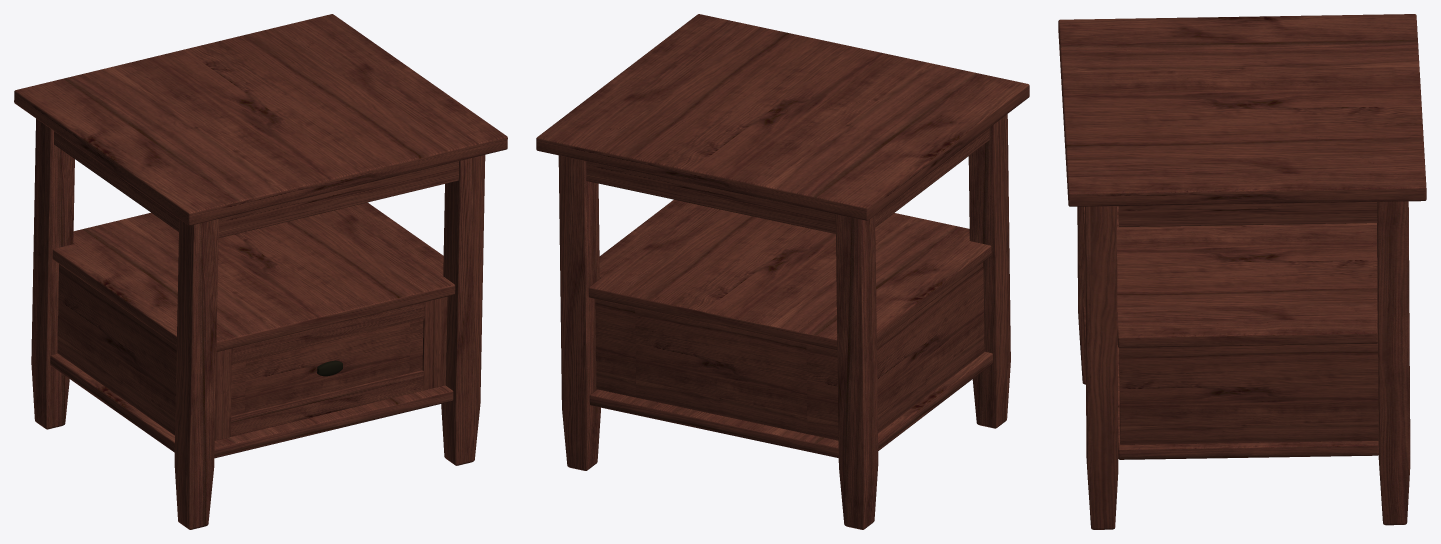
File: QSI2845.obj
3 views of the same model, side by side, from view 1: azimuth 30°, elevation 25°; view 2: azimuth 150°, elevation 25°; view 3: azimuth 270°, elevation 25° (orthographic). The views are drawn at different scales.
Visible parts, largest first — view 1: not_clear_obj_0_v6; view 2: not_clear_obj_0_v6; view 3: not_clear_obj_0_v6.
Boxes of the visible parts, x1,y1,x2,y2 form: not_clear_obj_0_v6: [14, 14, 507, 529]; not_clear_obj_0_v6: [536, 14, 1029, 529]; not_clear_obj_0_v6: [1058, 14, 1426, 529].
Size of what is drawn, in the model's own units: 51.94 by 50.36 by 46.98.
